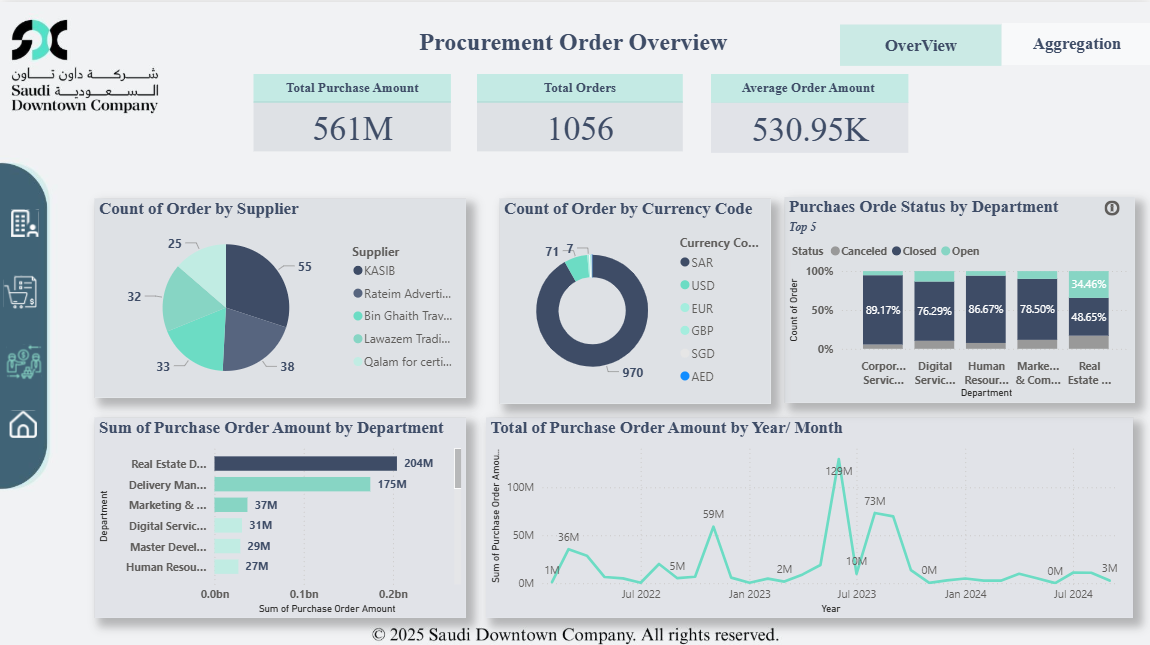

What the dashboard file says about the page in this screenshot:
{"tool":"powerbi","page":{"name":"PO","canvas":[1280,720],"ordinal":3},"visuals":[{"type":"actionButton","box":[8.1,227,45,38.3],"z":0,"group":"g1"},{"type":"group","id":"g1","title":"Group 1","box":[0,227,68.3,196.7],"z":0},{"type":"actionButton","box":[0,300.3,68.3,45],"z":1000,"group":"g1"},{"type":"actionButton","box":[6.7,450,48.3,38.3],"z":1000},{"type":"card","fields":{"Values":["Sum(PO_Detailes.Purchase Order Amount)"]},"box":[281.6,110.5,219.6,56],"z":2000},{"type":"actionButton","box":[3.9,377,53.3,46.7],"z":2000,"group":"g1"},{"type":"card","fields":{"Values":["Count(PO_Detailes.Order)"]},"box":[530,110.5,228.6,56],"z":3000},{"type":"pieChart","fields":{"Category":["PO_Detailes.Supplier"],"Y":["CountNonNull(PO_Detailes.Order)"]},"box":[105.3,217.6,412.4,221.1],"z":4000},{"type":"barChart","fields":{"Category":["PO_Detailes.Department"],"Y":["Sum(PO_Detailes.Purchase Order Amount)"]},"box":[105.3,461.6,412.4,222.9],"z":5000},{"type":"lineChart","title":"Total of Purchase Order Amount by Year/ Month","fields":{"Y":["Sum(PO_Detailes.Purchase Order Amount)"],"Category":["PO_Detailes.Creation Date.Variation.Date Hierarchy.Year","PO_Detailes.Creation Date.Variation.Date Hierarchy.Month"]},"box":[540.6,461.6,719.6,222.9],"z":6000},{"type":"card","fields":{"Values":["PO_Detailes.#Avg Order Amount"]},"box":[790.4,112.1,219.6,56],"z":7000},{"type":"textbox","box":[281.6,80.3,219.6,31.8],"z":8000},{"type":"textbox","box":[530,80.3,228.6,31.8],"z":9000},{"type":"textbox","box":[790.4,80.3,219.6,31.8],"z":10000},{"type":"textbox","box":[425.5,23.8,430.6,47.7],"z":11000},{"type":"donutChart","fields":{"Category":["PO_Detailes.Currency Code"],"Y":["Count(PO_Detailes.Order)"]},"box":[554.9,217.9,301.3,228.1],"z":12000},{"type":"actionButton","box":[933.3,24.3,179.6,46.3],"z":13000},{"type":"actionButton","box":[1113.3,23.3,166.7,46.7],"z":14000},{"type":"hundredPercentStackedColumnChart","title":"Purchaes Orde Status  by Department ","fields":{"Series":["Sheet1.Line Status"],"Y":["CountNonNull(Sheet1.Order)"],"Category":["PO_Detailes.Department"]},"box":[871.2,217.3,389.3,228.7],"z":20000},{"type":"actionButton","box":[1222.7,217.3,56.7,24.6],"z":21000}]}

Visuals, with their boxes in screenshot pixels (x1, y1, x2, y2), scaled from the page's 1280x720 canvas onto the 1150x645 screenshot:
actionButton: 7, 203, 48, 238
"Group 1" group: 0, 203, 61, 380
actionButton: 0, 269, 61, 309
actionButton: 6, 403, 49, 437
card - Sum(PO_Detailes.Purchase Order Amount): 253, 99, 450, 149
actionButton: 4, 338, 51, 380
card - Count(PO_Detailes.Order): 476, 99, 682, 149
pieChart - PO_Detailes.Supplier x CountNonNull(PO_Detailes.Order): 95, 195, 465, 393
barChart - PO_Detailes.Department x Sum(PO_Detailes.Purchase Order Amount): 95, 414, 465, 613
"Total of Purchase Order Amount by Year/ Month" lineChart: 486, 414, 1132, 613
card - PO_Detailes.#Avg Order Amount: 710, 100, 907, 151
textbox: 253, 72, 450, 100
textbox: 476, 72, 682, 100
textbox: 710, 72, 907, 100
textbox: 382, 21, 769, 64
donutChart - PO_Detailes.Currency Code x Count(PO_Detailes.Order): 499, 195, 769, 400
actionButton: 839, 22, 1000, 63
actionButton: 1000, 21, 1149, 63
"Purchaes Orde Status  by Department " hundredPercentStackedColumnChart: 783, 195, 1132, 400
actionButton: 1099, 195, 1149, 217
